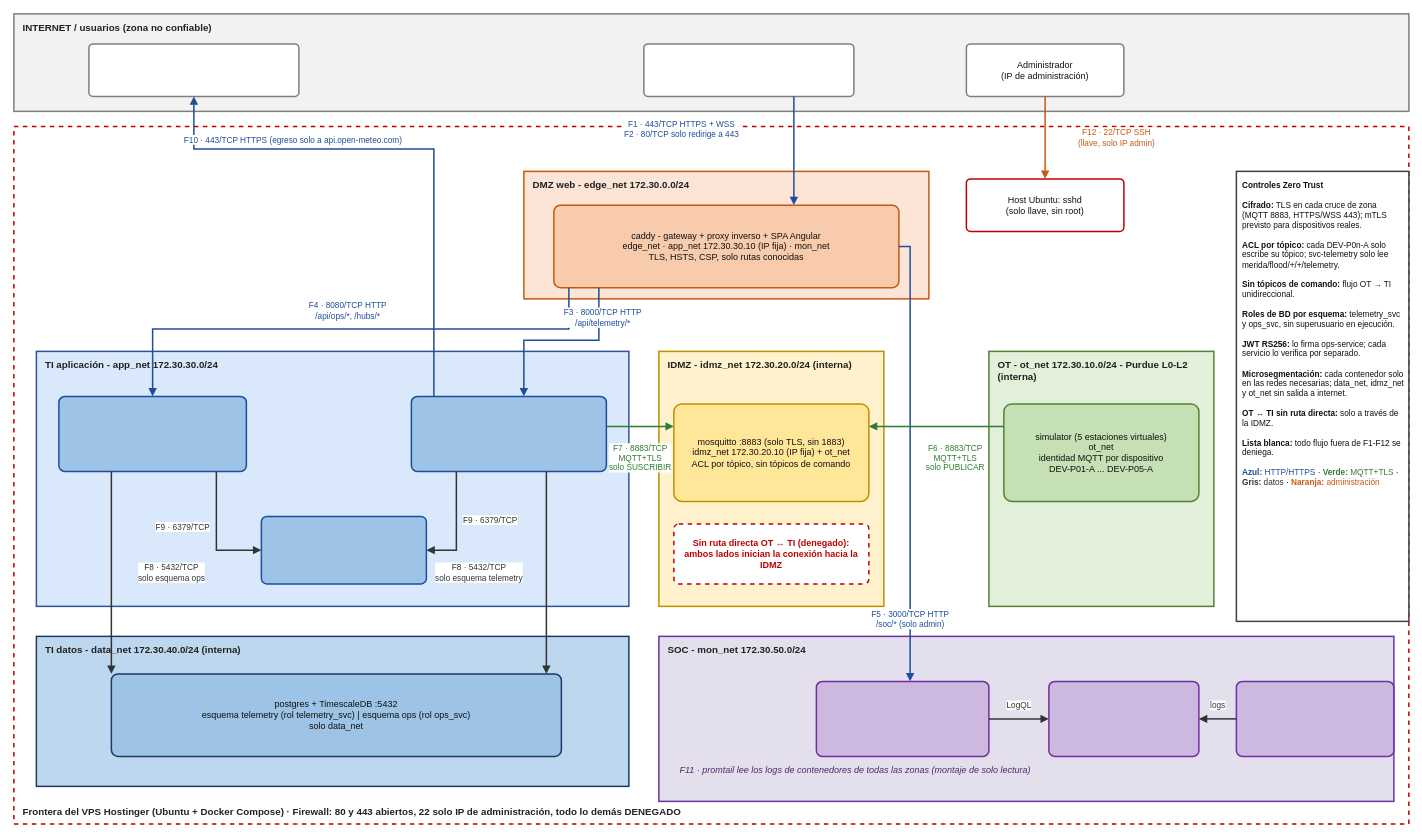
Some shapes in this 1422 by 837 pixel diagram are drawn without their labels. The centre of each missing label's shape, as x and y in pixels:
"api.open-meteo.com (pronóstico, HTTPS)" belongs at point 193,70.
"grafana :3000 reglas de alerta SR-01..SR-07" belongs at point 902,718.
"loki almacén de logs" belongs at point 1123,718.
"ops-service ASP.NET Core :8080 app_net + data_net" belongs at point 152,433.
"promtail lee logs de Docker" belongs at point 1314,718.
"redis :6379 Streams · Pub/Sub · caché solo app_net" belongs at point 343,549.
"telemetry-service FastAPI :8000 app_net + data_net + idmz_net" belongs at point 508,433.
"Usuarios (navegador) ciudadano · operador · supervisor · administrador" belongs at point 748,70.
